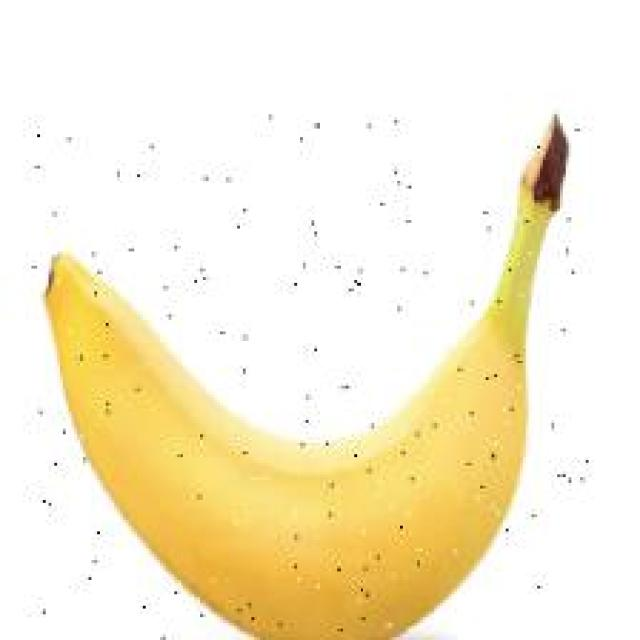banana: (40, 183, 580, 640)
